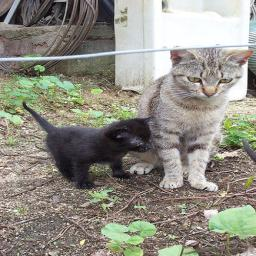catnose: (203, 92, 218, 98), (142, 146, 150, 152)
